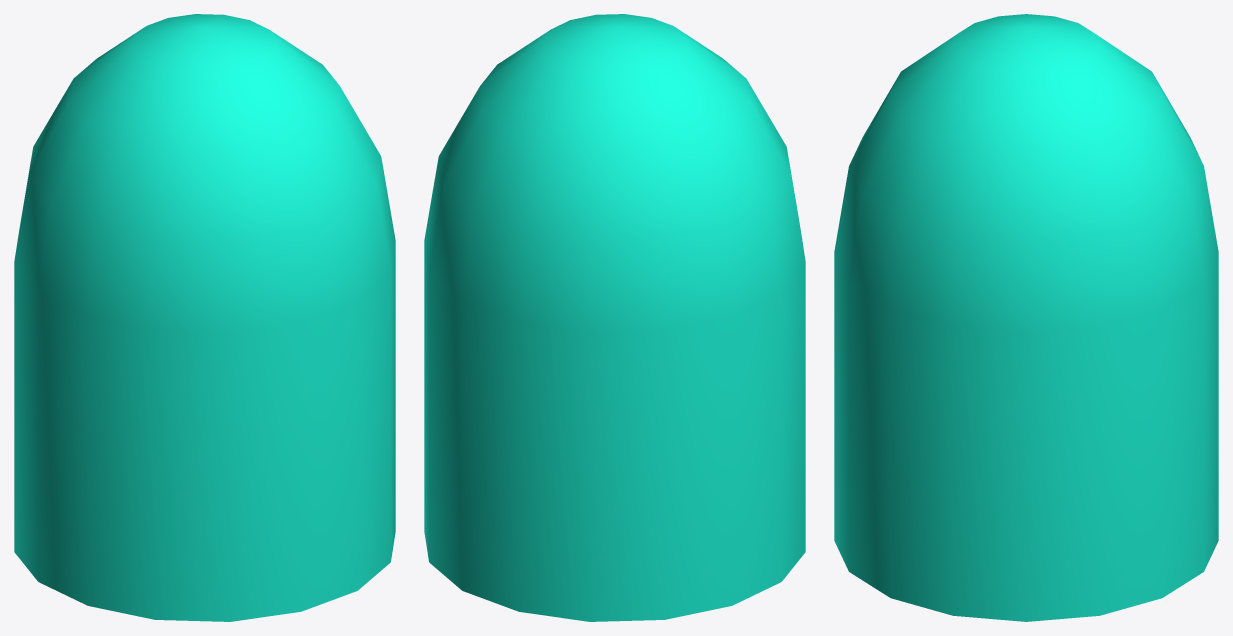
Rendered from Bullet.fbx.
3 views of the same model, side by side, from view 1: azimuth 30°, elevation 25°; view 2: azimuth 150°, elevation 25°; view 3: azimuth 270°, elevation 25° (orthographic).
Parts seen in each view (by area): view 1: Bullet; view 2: Bullet; view 3: Bullet.
Part boxes in pixels (bbox=[...]): Bullet: bbox=[14, 14, 395, 621]; Bullet: bbox=[424, 14, 805, 621]; Bullet: bbox=[834, 14, 1218, 621].
Bounding box in the file's own units: 22.42 × 33 × 22.42.
